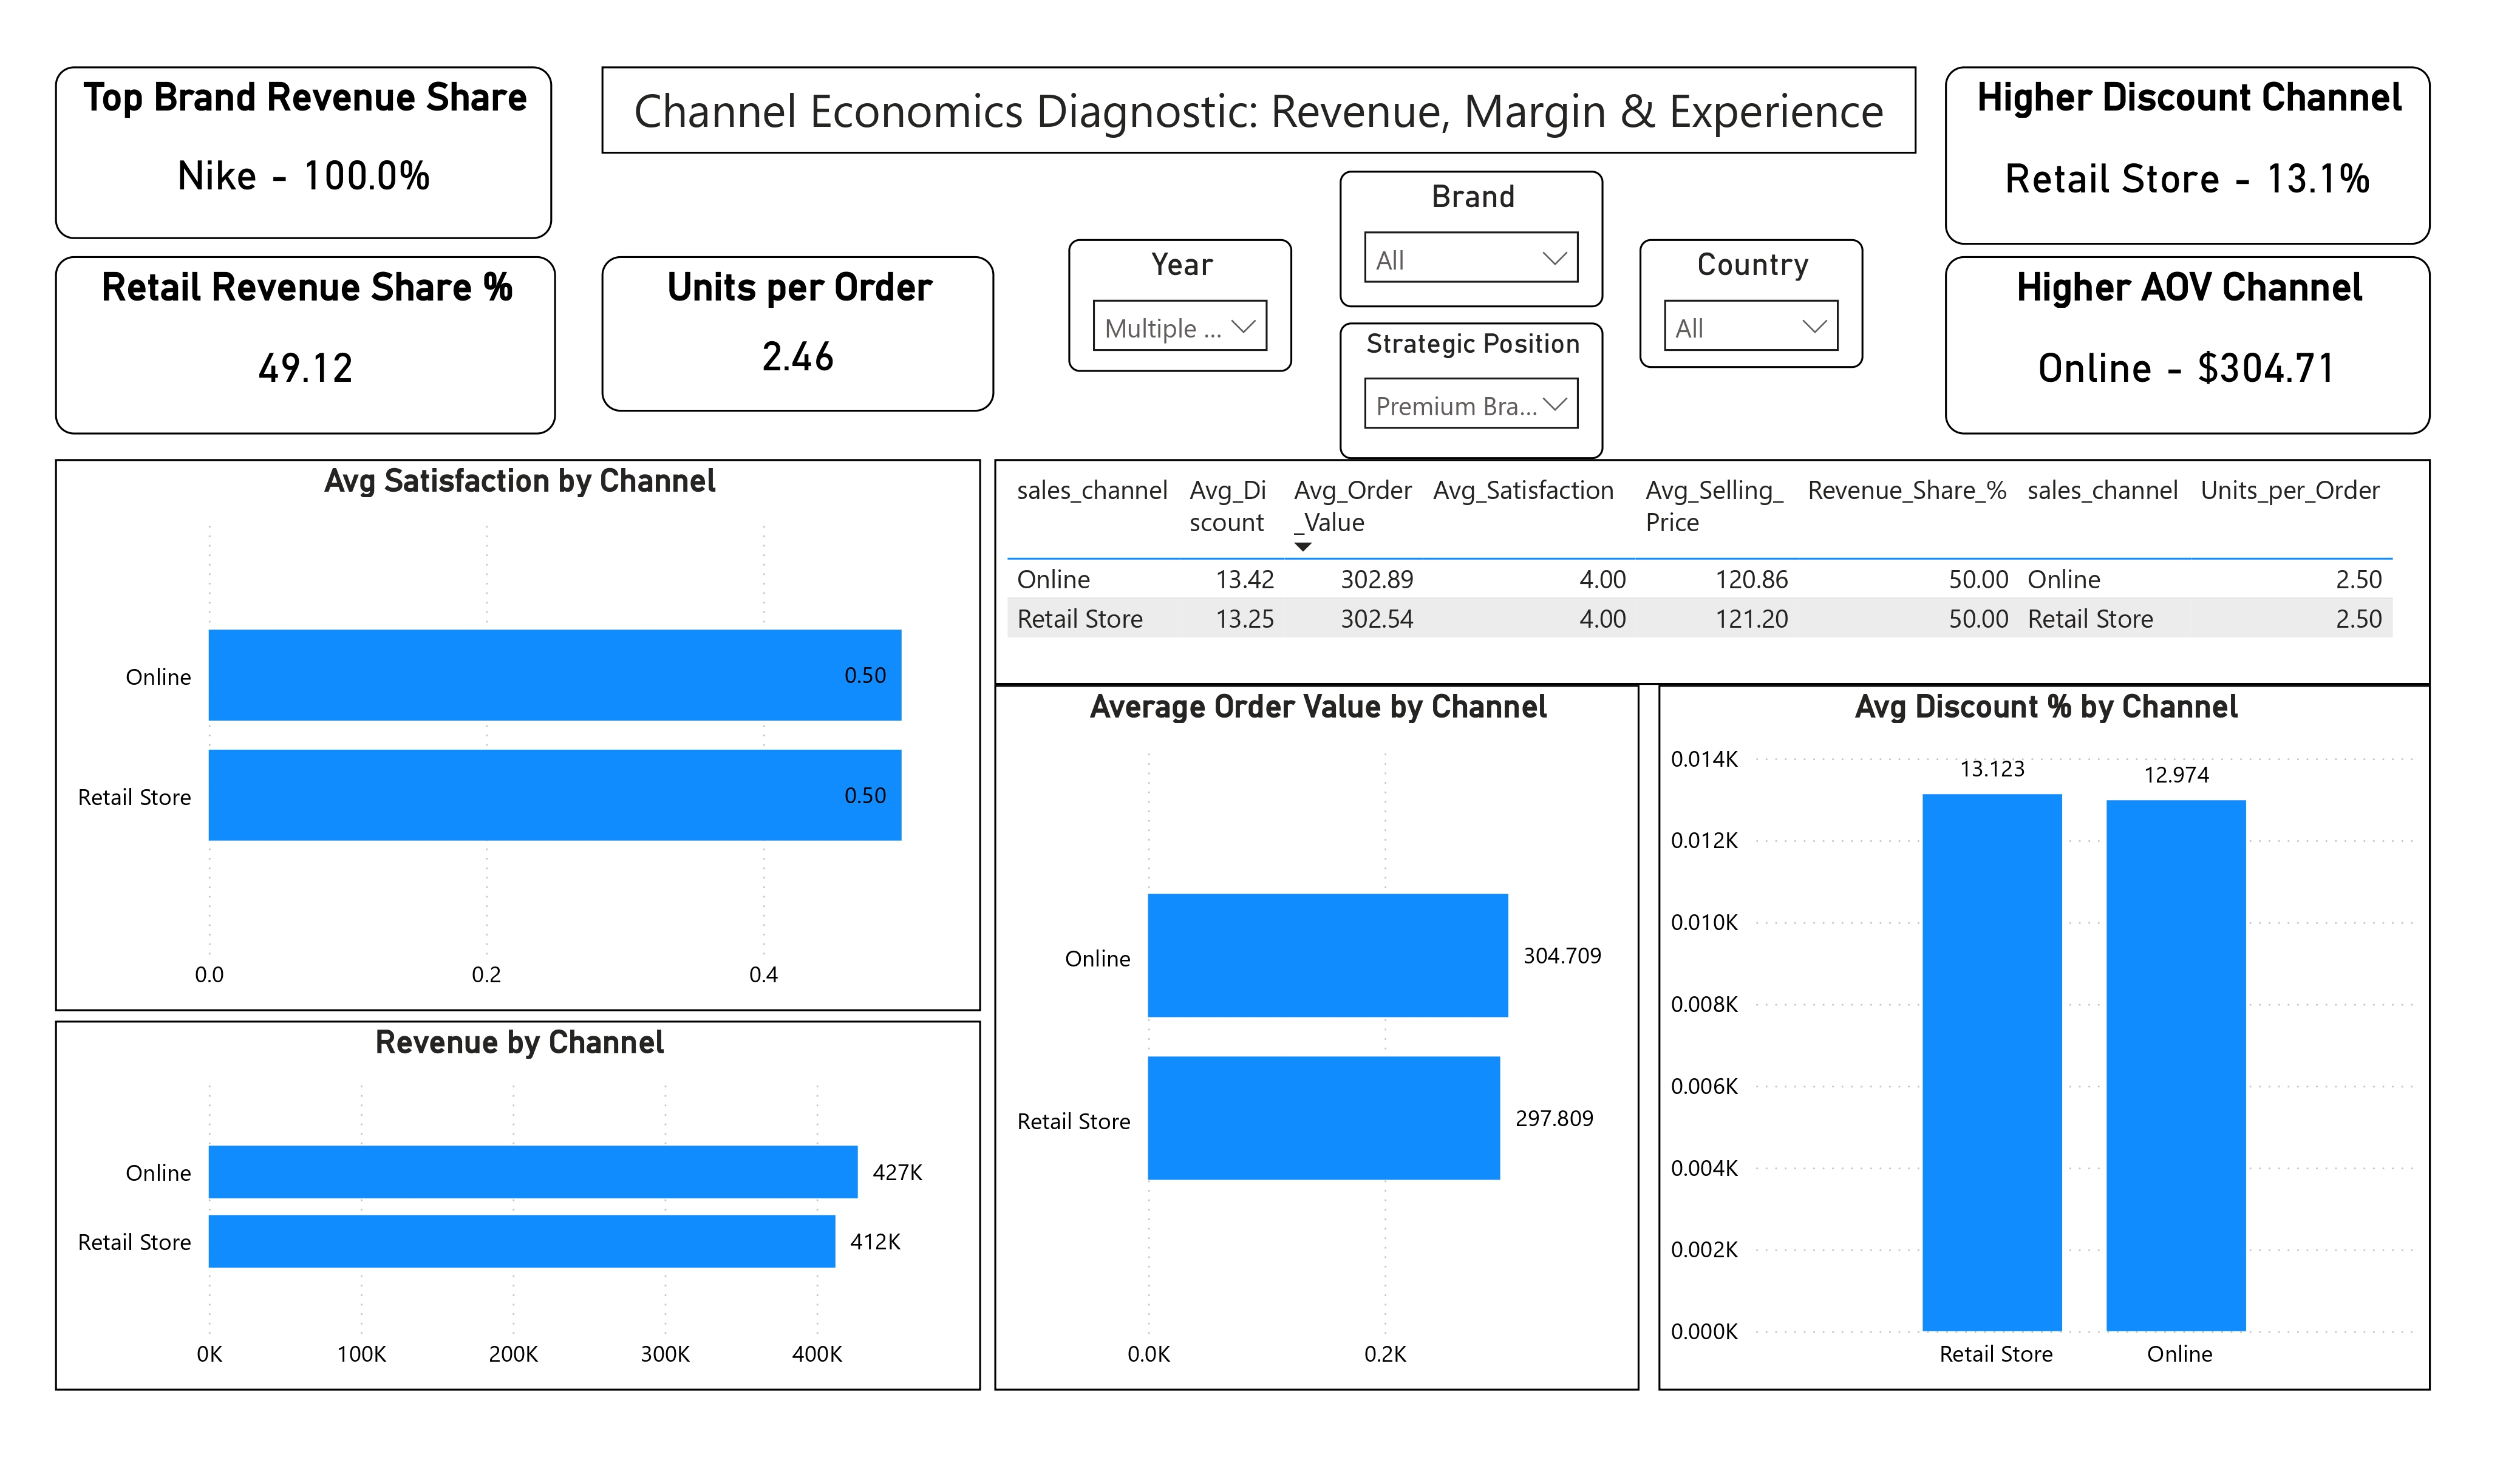

Layout of this report page (visuals, bound fields, positions):
{"tool":"powerbi","page":{"name":"Sales Channel Economics","canvas":[1280,720],"ordinal":3},"visuals":[{"type":"textbox","box":[293.2,11.5,693,45.9],"z":0},{"type":"slicer","title":"Country","fields":{"Values":["cleaned_data.country"]},"box":[840.4,101.6,118,68.8],"z":1000},{"type":"slicer","title":"Brand","fields":{"Values":["brand_summary.brand"]},"box":[681.5,65.5,139.3,72.1],"z":2000},{"type":"slicer","title":"Year","fields":{"Values":["cleaned_data.year"]},"box":[539,101.6,118,70.4],"z":3000},{"type":"card","title":"Top Brand Revenue Share ","fields":{"Values":["Table 4.Top Brand Revenue Share KPI"]},"box":[4.9,11.5,262.1,90.1],"z":4000},{"type":"card","title":"Retail Revenue Share %","fields":{"Values":["Table pg4.Retail Revenue Share %"]},"box":[4.9,111.4,263.8,93.4],"z":5000},{"type":"card","title":"Higher AOV Channel","fields":{"Values":["Table pg4.Higher AOV Channel"]},"box":[1001,111.4,255.6,93.4],"z":6000},{"type":"card","title":"Higher Discount Channel","fields":{"Values":["Table pg4.Higher Discount Channel"]},"box":[1001,11.5,255.6,93.4],"z":7000},{"type":"clusteredBarChart","title":"Revenue by Channel","fields":{"Category":["cleaned_data.sales_channel"],"Y":["Sum(cleaned_data.Revenue)"]},"box":[4.9,514.4,488.2,195],"z":8000},{"type":"clusteredBarChart","title":"Average Order Value by Channel","fields":{"Category":["cleaned_data.sales_channel"],"Y":["Table2.AOV"]},"box":[499.7,337.5,340.8,371.9],"z":9000},{"type":"clusteredColumnChart","title":"Avg Discount % by Channel","fields":{"Category":["cleaned_data.sales_channel"],"Y":["Table2.Average Discount %"]},"box":[850.2,337.5,406.3,371.9],"z":10000},{"type":"barChart","title":"Avg Satisfaction by Channel","fields":{"Category":["cleaned_data.sales_channel"],"Y":["Avg(brand_summary.Satisfaction_norm)"]},"box":[4.9,217.9,488.2,291.6],"z":11000},{"type":"card","title":"Units per Order","fields":{"Values":["Table pg4.Units per Order"]},"box":[293.2,111.4,206.4,81.9],"z":12000},{"type":"tableEx","fields":{"Values":["cleaned_data.sales_channel","channel_summary.Avg_Discount","channel_summary.Avg_Order_Value","channel_summary.Avg_Satisfaction","channel_summary.Avg_Selling_Price","channel_summary.Revenue_Share_%","channel_summary.sales_channel","channel_summary.Units_per_Order"]},"box":[499.7,217.9,756.9,119.6],"z":13000},{"type":"slicer","title":"Strategic Position","fields":{"Values":["brand_summary.Strategic_Position"]},"box":[681.5,145.8,139.3,72.1],"z":14000}]}

Visuals, with their boxes in screenshot pixels (x1, y1, x2, y2):
textbox: region(595, 74, 1893, 160)
"Country" slicer: region(1619, 243, 1841, 372)
"Brand" slicer: region(1322, 175, 1583, 310)
"Year" slicer: region(1055, 243, 1276, 375)
"Top Brand Revenue Share " card: region(55, 74, 546, 243)
"Retail Revenue Share %" card: region(55, 261, 549, 436)
"Higher AOV Channel" card: region(1921, 261, 2399, 436)
"Higher Discount Channel" card: region(1921, 74, 2399, 249)
"Revenue by Channel" clusteredBarChart: region(55, 1016, 969, 1381)
"Average Order Value by Channel" clusteredBarChart: region(982, 684, 1620, 1381)
"Avg Discount % by Channel" clusteredColumnChart: region(1638, 684, 2399, 1381)
"Avg Satisfaction by Channel" barChart: region(55, 460, 969, 1007)
"Units per Order" card: region(595, 261, 981, 415)
tableEx - cleaned_data.sales_channel x channel_summary.Avg_Discount: region(982, 460, 2399, 684)
"Strategic Position" slicer: region(1322, 325, 1583, 460)
